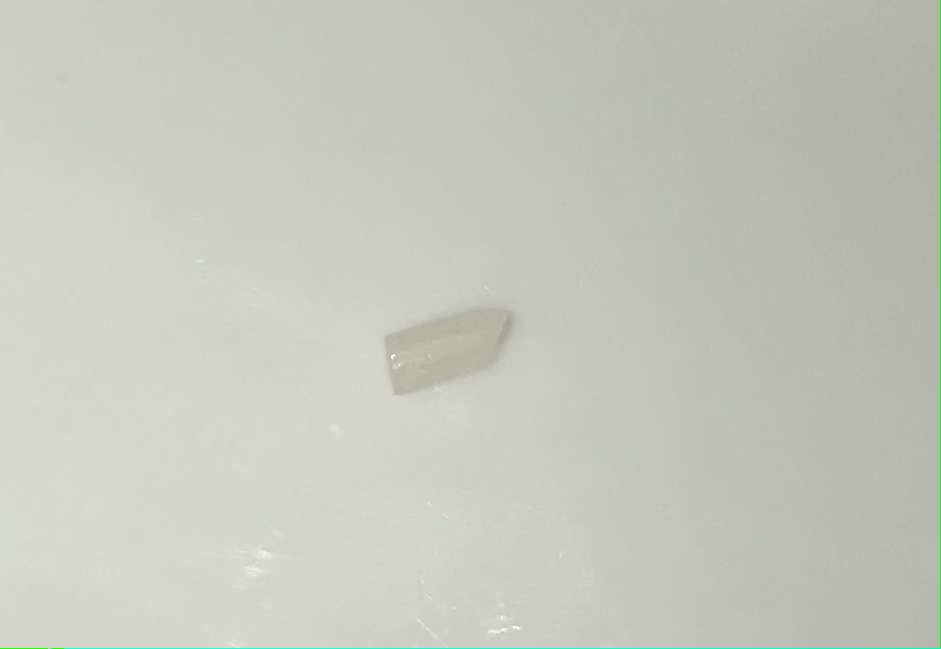Gao Tam: (372, 297, 537, 399)
